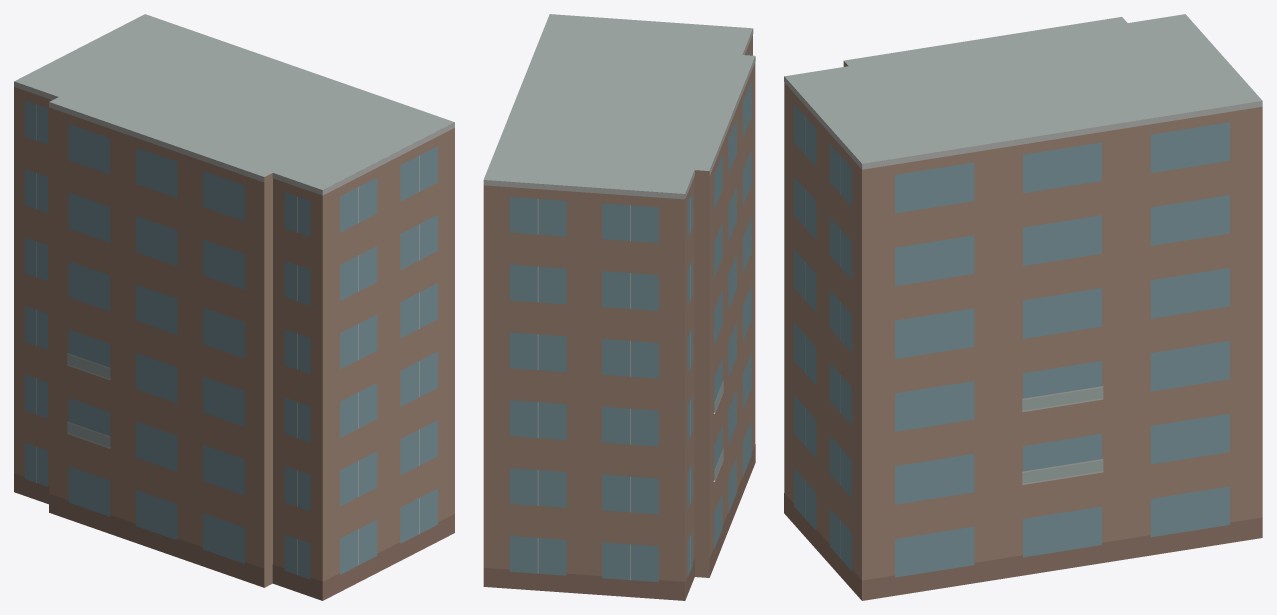
Rendered from survey-upis-32912724.glb.
3 renders of one model, left to right at view 1: azimuth 30°, elevation 25°; view 2: azimuth 150°, elevation 25°; view 3: azimuth 270°, elevation 25°, orthographic. The views are drawn at different scales.
Visible parts, largest first — view 1: survey-upis-32912724.tmp; view 2: survey-upis-32912724.tmp; view 3: survey-upis-32912724.tmp.
Boxes of the visible parts, x1,y1,x2,y2 form: survey-upis-32912724.tmp: (14, 14, 454, 600); survey-upis-32912724.tmp: (483, 14, 755, 600); survey-upis-32912724.tmp: (784, 14, 1262, 600).
Bounding box in the file's own units: 13.47 × 18.3 × 18.17.
